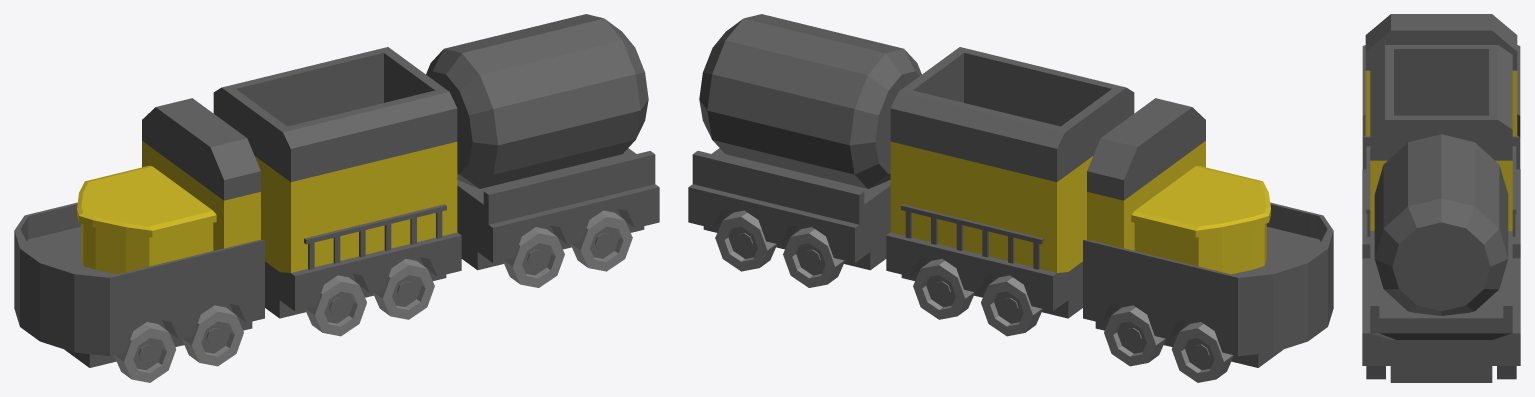
The model's file is Train.fbx.
3 views of the same model, side by side, from view 1: azimuth 30°, elevation 25°; view 2: azimuth 150°, elevation 25°; view 3: azimuth 270°, elevation 25° (orthographic). The views are drawn at different scales.
Visible parts, largest first — view 1: Train cube segment, Front train segment, Train silo segment, Wheels front.001, Wheels front.005, Wheels front.002, Wheels front, Wheels front.004, Wheels front.003; view 2: Train cube segment, Front train segment, Train silo segment, Wheels front.001, Wheels front.005, Wheels front.002, Wheels front, Wheels front.004, Wheels front.003; view 3: Train silo segment, Train cube segment, Front train segment, Wheels front.005.
Part boxes in pixels (<box>): Train cube segment: <box>213,47,461,318</box>; Front train segment: <box>14,98,264,367</box>; Train silo segment: <box>426,14,659,270</box>; Wheels front.001: <box>182,305,243,366</box>; Wheels front.005: <box>570,210,632,271</box>; Wheels front.002: <box>373,259,434,319</box>; Wheels front: <box>114,322,176,382</box>; Wheels front.004: <box>503,227,564,287</box>; Wheels front.003: <box>305,275,366,336</box>; Train cube segment: <box>886,47,1134,318</box>; Front train segment: <box>1083,98,1333,367</box>; Train silo segment: <box>688,14,921,270</box>; Wheels front.001: <box>1104,305,1165,366</box>; Wheels front.005: <box>715,210,777,271</box>; Wheels front.002: <box>913,259,974,319</box>; Wheels front: <box>1171,322,1233,382</box>; Wheels front.004: <box>783,227,844,287</box>; Wheels front.003: <box>981,275,1042,336</box>; Train silo segment: <box>1362,134,1520,382</box>; Train cube segment: <box>1362,45,1520,258</box>; Front train segment: <box>1362,14,1520,169</box>; Wheels front.005: <box>1366,366,1516,379</box>.
Size of the model in its own units: 1122 by 387 by 281.
